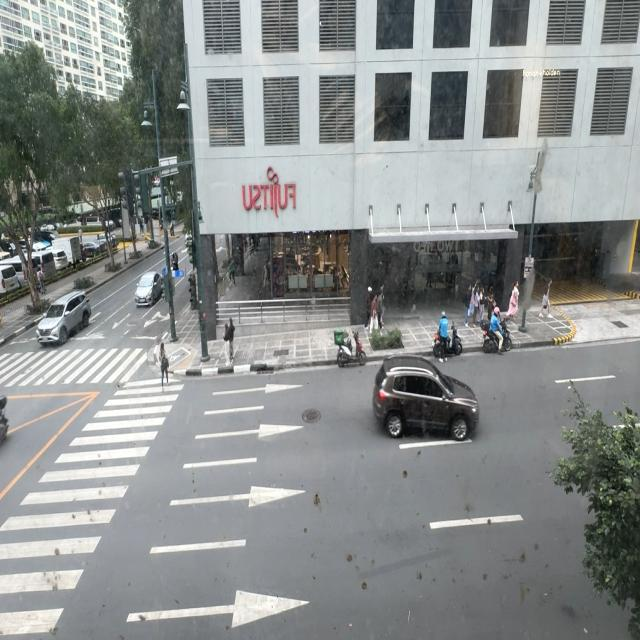waiting: (224, 317, 237, 364)
